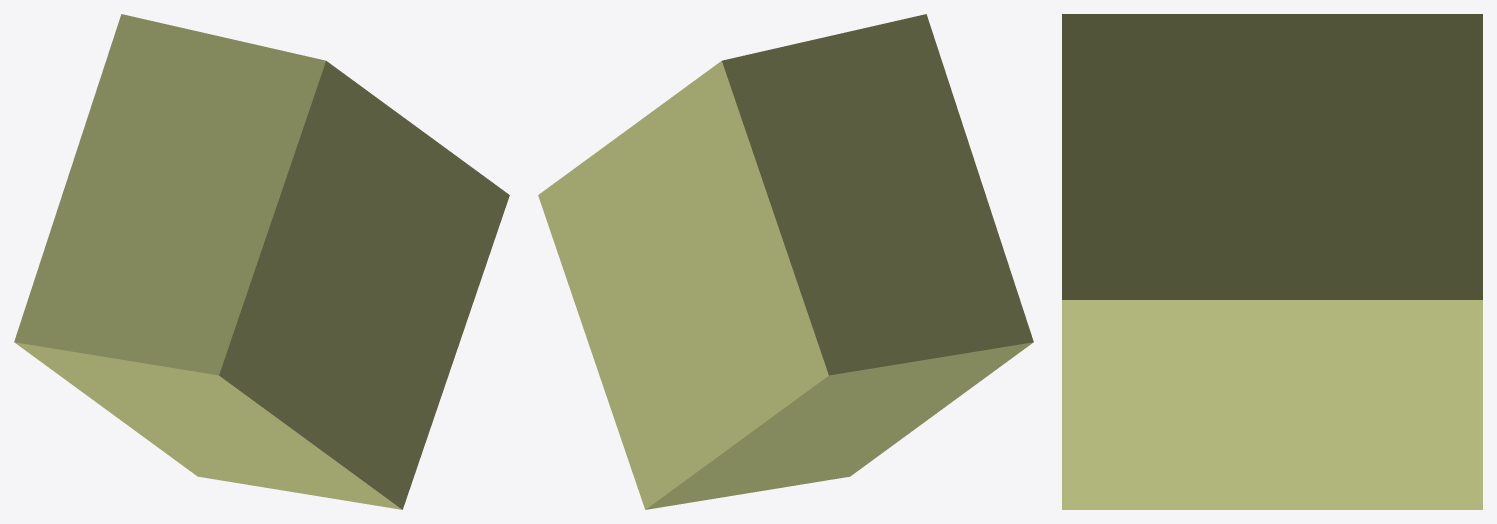
3 views of the same model, side by side, from view 1: azimuth 30°, elevation 25°; view 2: azimuth 150°, elevation 25°; view 3: azimuth 270°, elevation 25° (orthographic). The views are drawn at different scales.
Visible parts, largest first — view 1: 0_1_0_0_1_3_1_2_0_2_2; view 2: 0_1_0_0_1_3_1_2_0_2_2; view 3: 0_1_0_0_1_3_1_2_0_2_2.
Boxes of the visible parts, box(x1,y1,x2,y2) form: 0_1_0_0_1_3_1_2_0_2_2: box(14, 14, 509, 509); 0_1_0_0_1_3_1_2_0_2_2: box(538, 14, 1033, 509); 0_1_0_0_1_3_1_2_0_2_2: box(1062, 14, 1482, 509).
Bounding box in the file's own units: 8.83 × 10.42 × 9.
